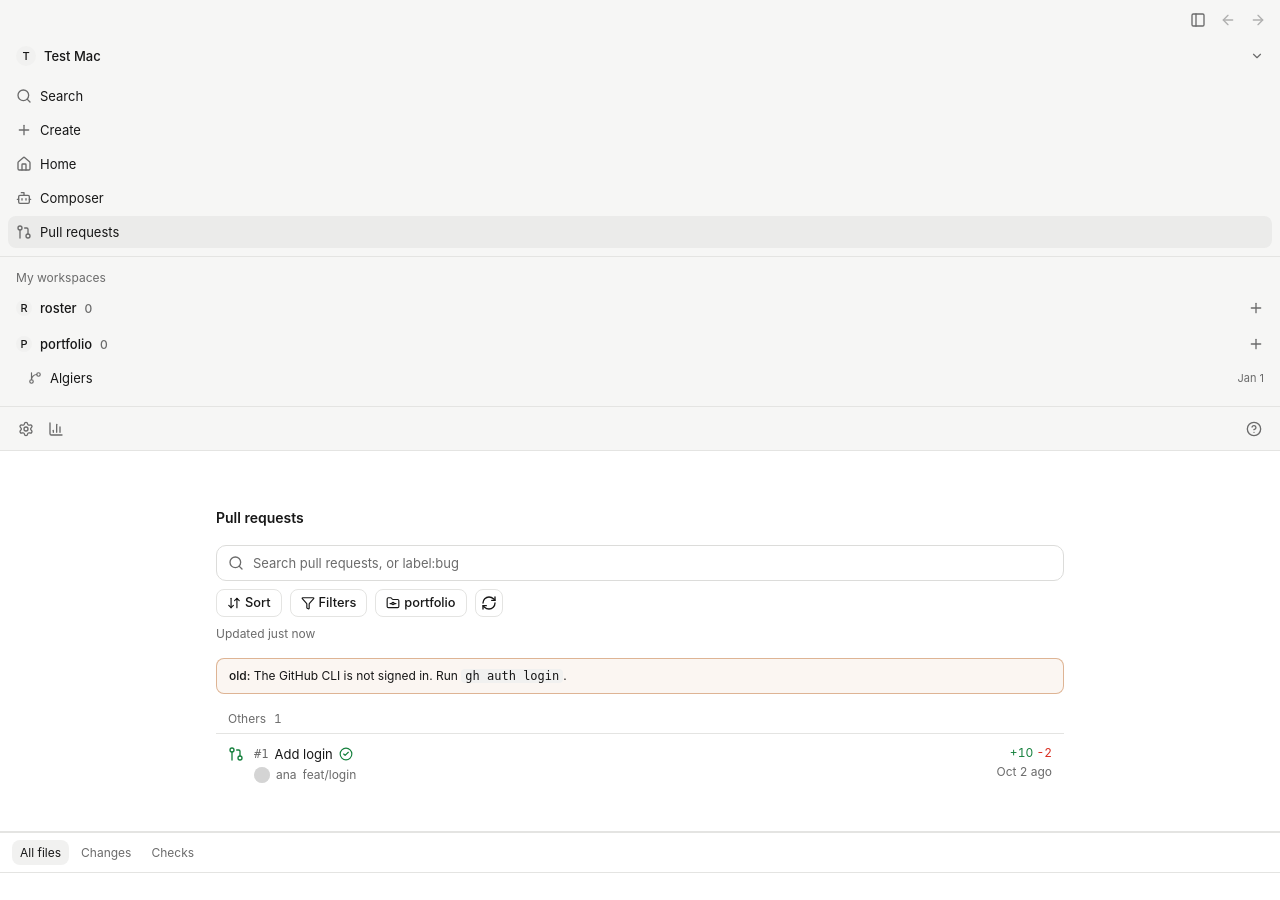
the Pull requests page › says when nothing matches and when a repository could not be asked
The width and height of the screenshot is (1280, 900).
Expected: the button "#1 Add login" is shown, [216, 736, 1064, 791]
Expected: the message "old: The GitHub CLI is not signed in. Run gh auth login." is shown, [216, 658, 1064, 694]
Type "zzz" into the field labelled "Search pull requests" at (640,563), box [216, 545, 1064, 581]
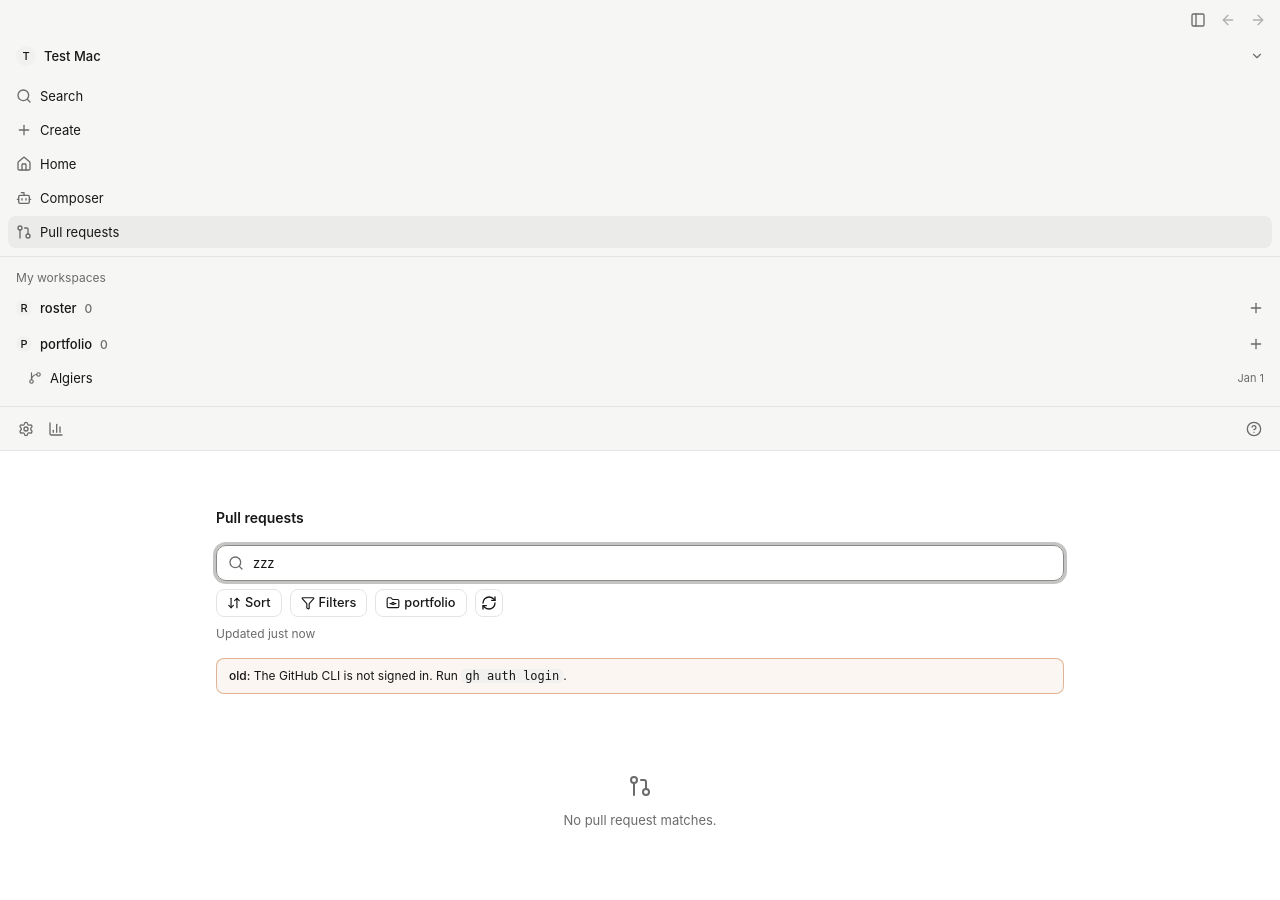
Now the text "No pull request matches." is shown, box [563, 810, 717, 830]
